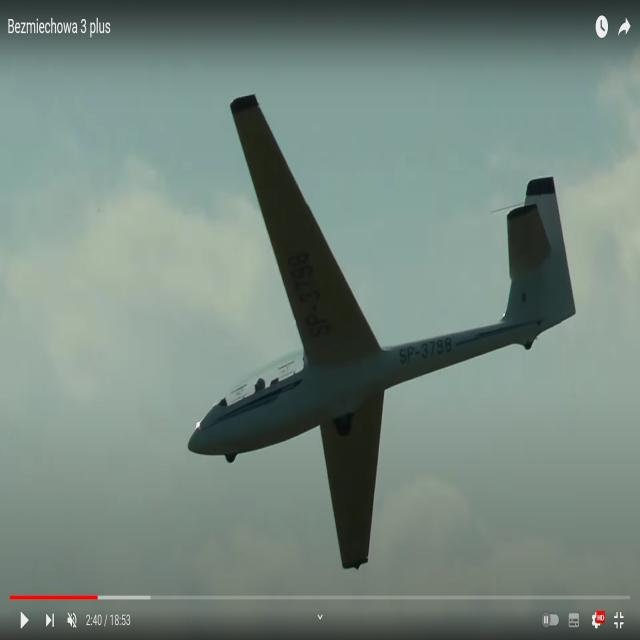iha: (189, 98, 574, 572)
